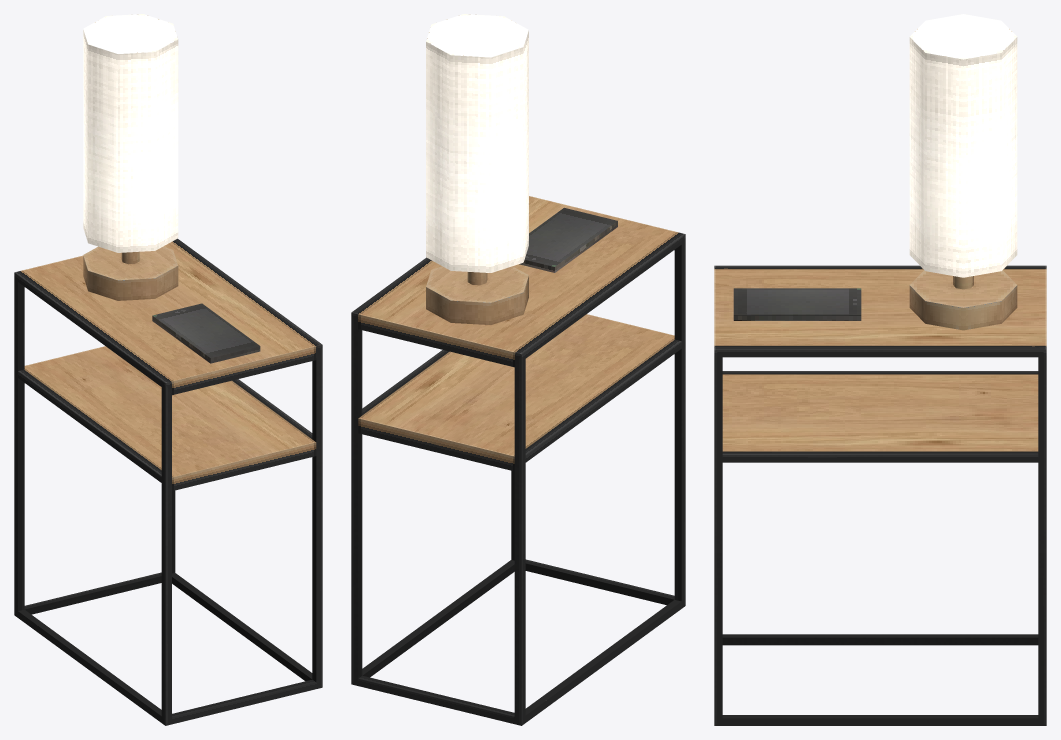
The model's file is SmallTable.glb.
3 views of the same model, side by side, from view 1: azimuth 30°, elevation 25°; view 2: azimuth 150°, elevation 25°; view 3: azimuth 270°, elevation 25° (orthographic). The views are drawn at different scales.
Parts seen in each view (by area): view 1: small table, small lamp, phone; view 2: small table, small lamp, phone; view 3: small table, small lamp, phone.
Part boxes in pixels (x1,y1,x2,y2): small table: (14, 238, 322, 725); small lamp: (83, 14, 178, 300); phone: (152, 303, 260, 363); small table: (351, 196, 685, 725); small lamp: (426, 14, 528, 324); phone: (519, 207, 617, 272); small table: (714, 265, 1046, 725); small lamp: (909, 14, 1017, 330); phone: (733, 288, 861, 320).
Size of the model in its own units: 0.24 by 0.86 by 0.4.
Materials: 4 (4 with a texture image).
